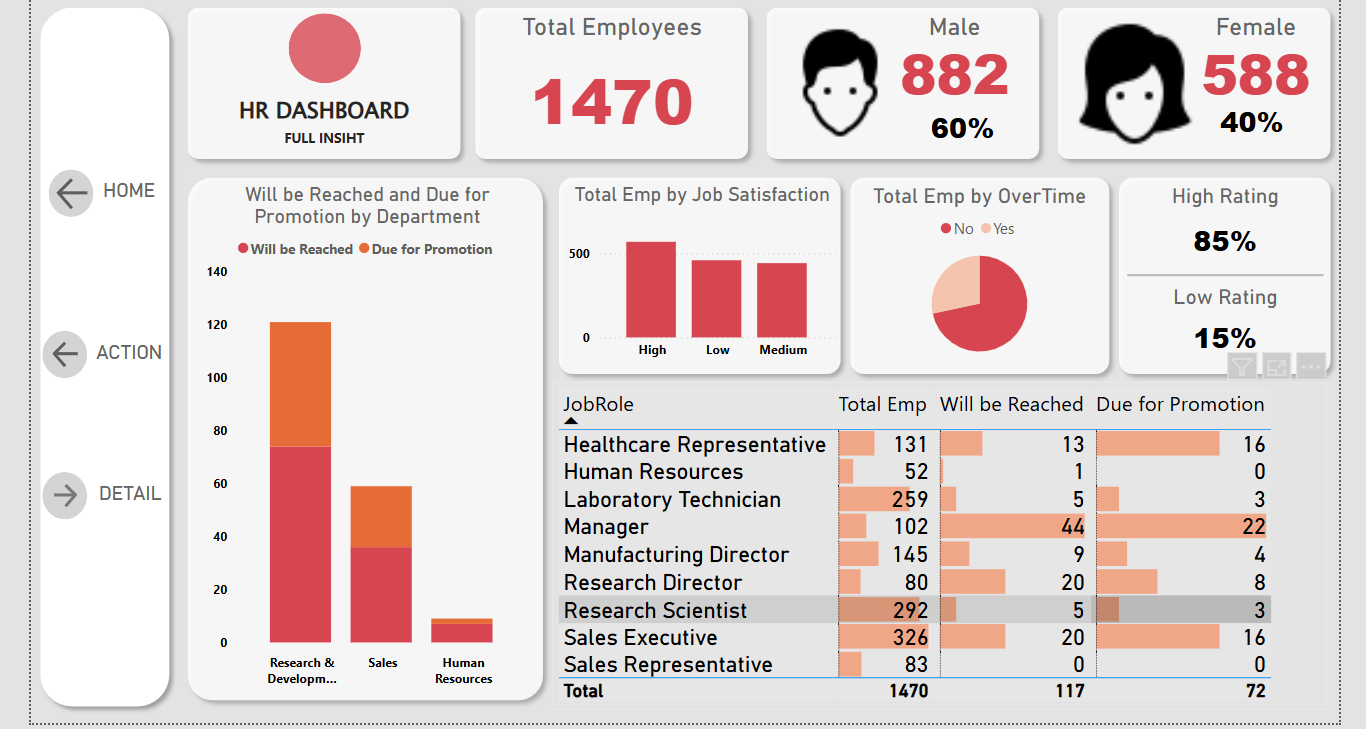

This screenshot's page, from the dashboard's own definition file:
{"tool":"powerbi","page":{"name":"ACTION","canvas":[1280,720],"ordinal":1},"visuals":[{"type":"shape","box":[706.8,17.1,284.9,168.8],"z":0},{"type":"shape","box":[995.4,17.1,284.9,168.8],"z":1000},{"type":"shape","box":[421.9,17.1,284.9,168.8],"z":2000},{"type":"shape","box":[144.3,9.8,284.9,168.8],"z":3000},{"type":"shape","box":[0,17.1,144.3,701.9],"z":4000},{"type":"card","title":"Total Employees","fields":{"Values":["All Measures.Total Emp"]},"box":[437.8,31.8,254.3,139.4],"z":5000},{"type":"card","title":"Male","fields":{"Values":["All Measures.Male"]},"box":[827.9,31.8,155.3,88],"z":6000},{"type":"card","title":"Male","fields":{"Values":["All Measures.% male"]},"box":[827.9,116.2,144.3,55],"z":7000},{"type":"image","box":[726.4,37.9,123.5,127.2],"z":8000},{"type":"card","title":"Female","fields":{"Values":["All Measures.Female"]},"box":[1121.3,29.3,148,86.8],"z":9000},{"type":"card","title":"Male","fields":{"Values":["All Measures.% female"]},"box":[1138.5,122.3,123.5,42.8],"z":10000},{"type":"image","box":[1011.3,29.3,127.2,141.8],"z":11000},{"type":"actionButton","box":[17.1,313,31.8,36.7],"z":12000},{"type":"actionButton","box":[17.1,451.2,31.8,36.7],"z":13000},{"type":"shape","title":"HOME","box":[48.9,189.5,81.9,36.7],"z":14000},{"type":"shape","title":"ACTION","box":[48.9,317.9,81.9,26.9],"z":15000},{"type":"shape","title":"DETAIL","box":[48.9,456.1,81.9,26.9],"z":16000},{"type":"shape","box":[17.1,174.9,44,46.5],"z":17000},{"type":"shape","box":[9.8,308.2,45.2,46.5],"z":18000},{"type":"shape","box":[11,446.3,44,46.5],"z":19000},{"type":"tableEx","fields":{"Values":["HR Analytics Data.Emplyee name","All Measures.Due for Promotion"]},"box":[150.4,193.2,551.5,505],"z":20000},{"type":"tableEx","fields":{"Values":["HR Analytics Data.Emplyee name","All Measures.Will be Reached"]},"box":[706.8,198.1,562.5,505],"z":21000},{"type":"actionButton","box":[17.1,178.5,55,40.4],"z":22000},{"type":"textbox","box":[161.4,94.2,244.6,70.9],"z":22001},{"type":"shape","box":[251.9,25.7,70.9,68.5],"z":22002}]}

Visuals, with their boxes on the page's 1280x720 design canvas (x1, y1, x2, y2). These are canvas units, not pixel positions in the 1366x729 screenshot, which may show the page scaled, cropped or inside an application window:
shape: box(707, 17, 992, 186)
shape: box(995, 17, 1280, 186)
shape: box(422, 17, 707, 186)
shape: box(144, 10, 429, 179)
shape: box(0, 17, 144, 719)
"Total Employees" card: box(438, 32, 692, 171)
"Male" card: box(828, 32, 983, 120)
"Male" card: box(828, 116, 972, 171)
image: box(726, 38, 850, 165)
"Female" card: box(1121, 29, 1269, 116)
"Male" card: box(1138, 122, 1262, 165)
image: box(1011, 29, 1138, 171)
actionButton: box(17, 313, 49, 350)
actionButton: box(17, 451, 49, 488)
"HOME" shape: box(49, 190, 131, 226)
"ACTION" shape: box(49, 318, 131, 345)
"DETAIL" shape: box(49, 456, 131, 483)
shape: box(17, 175, 61, 221)
shape: box(10, 308, 55, 355)
shape: box(11, 446, 55, 493)
tableEx - HR Analytics Data.Emplyee name x All Measures.Due for Promotion: box(150, 193, 702, 698)
tableEx - HR Analytics Data.Emplyee name x All Measures.Will be Reached: box(707, 198, 1269, 703)
actionButton: box(17, 178, 72, 219)
textbox: box(161, 94, 406, 165)
shape: box(252, 26, 323, 94)
